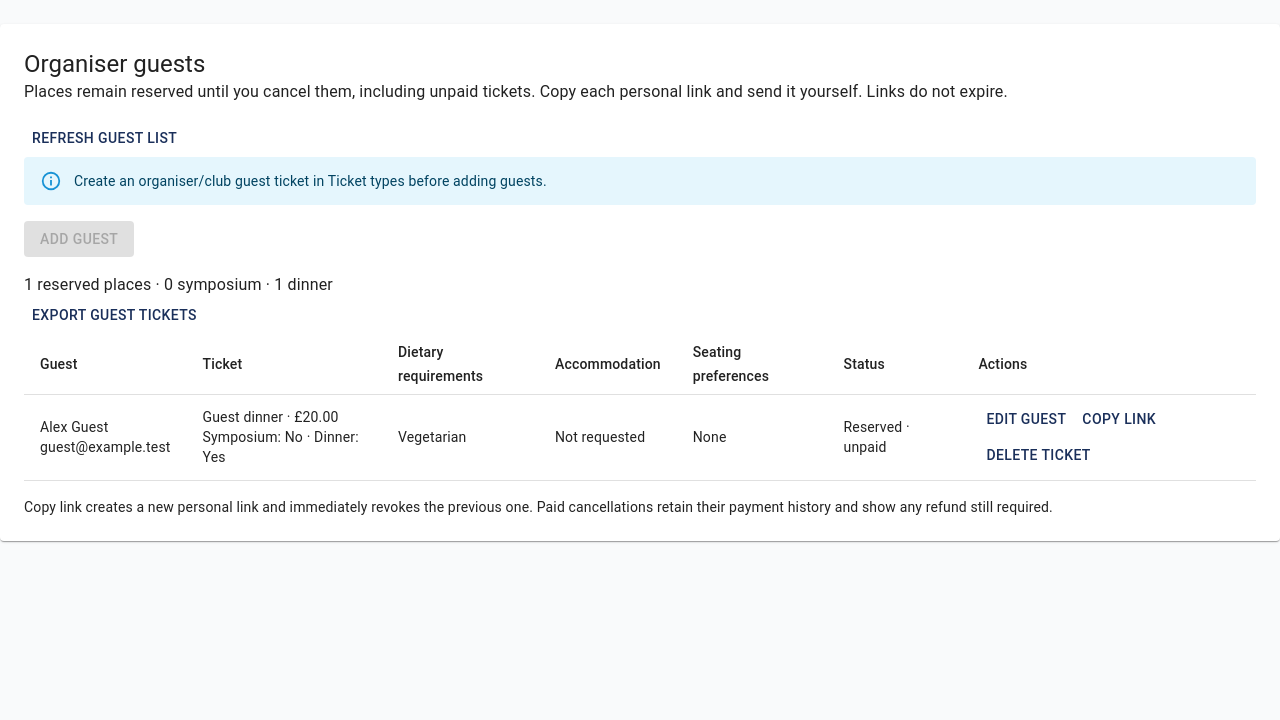
Test: organiser management and reports › copies a fresh guest link directly without opening a link dialog
Step 1. Click the button "Copy link" → click(1119, 419), box [1074,400,1164,437]
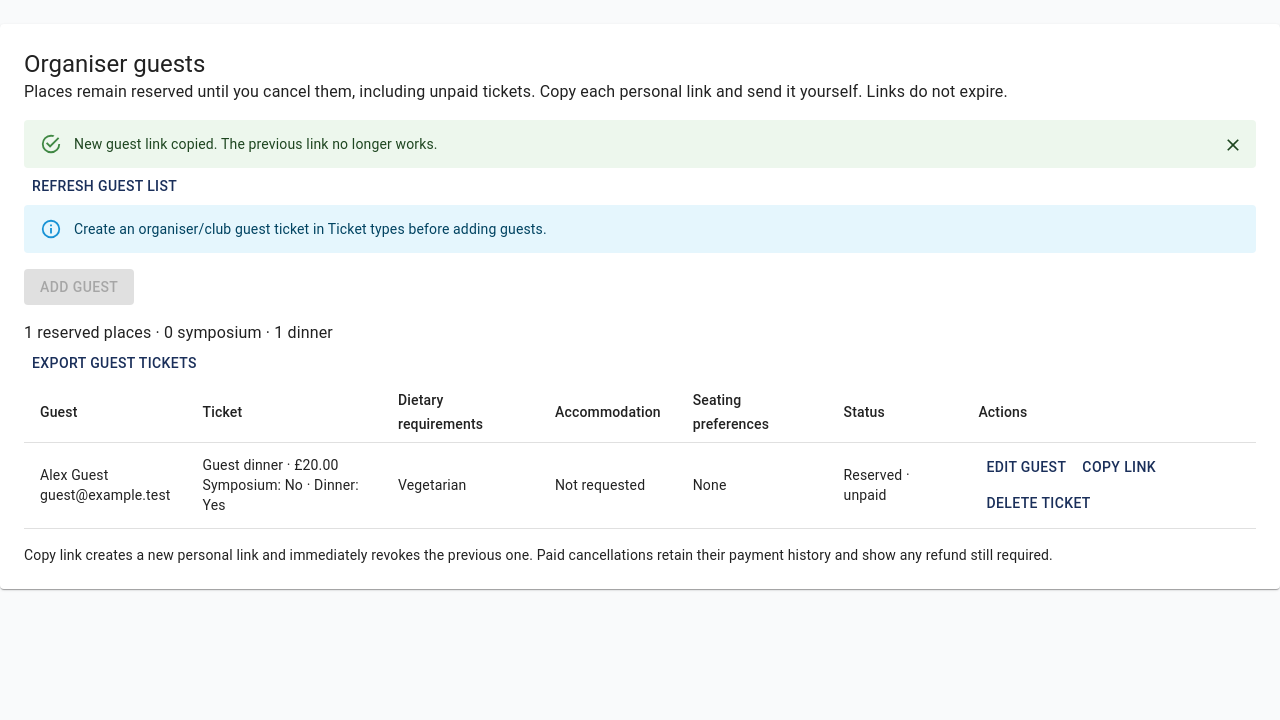
Check: the text "New guest link copied. The previous link no longer works." is shown, box [74,136,438,152]
